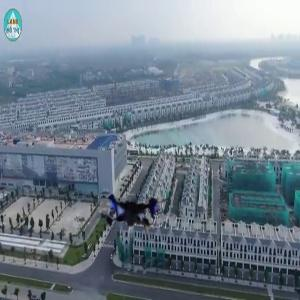drone: (83, 153, 178, 248)
